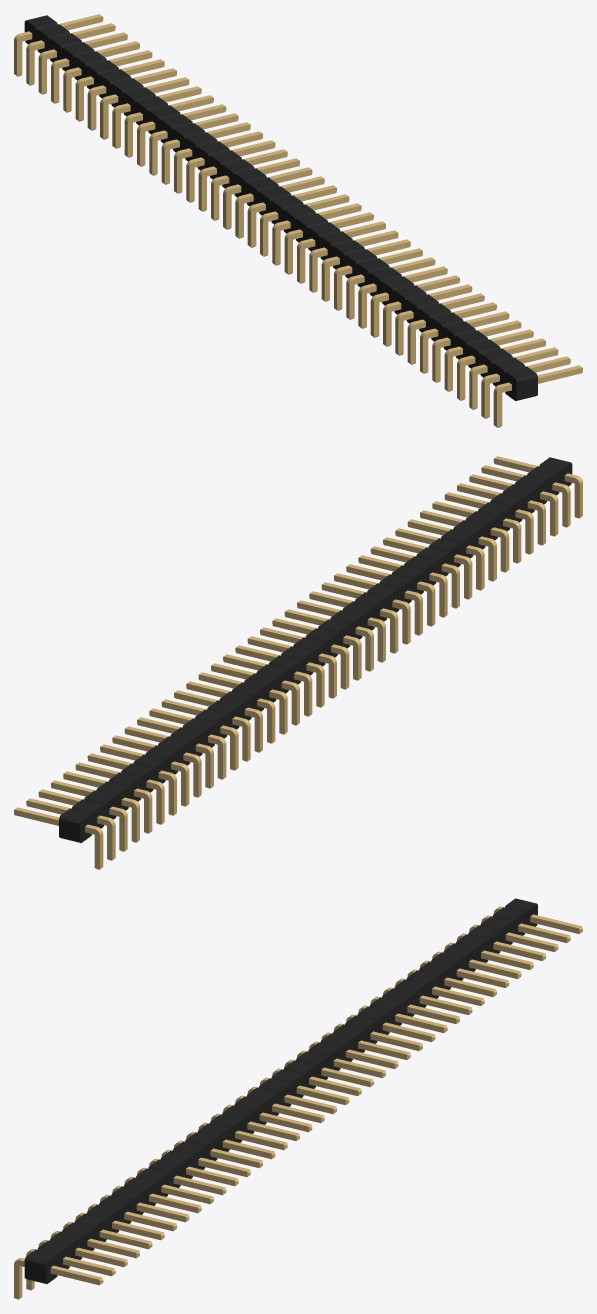
The model's file is kc-pinheader_1x40_p2.54mm_horizontal.glb.
The picture shows the model from 3 angles, top to bottom: view 1: azimuth 30°, elevation 25°; view 2: azimuth 150°, elevation 25°; view 3: azimuth 330°, elevation 25°; orthographic projection.
Visible parts, largest first — view 1: 0.75_0.5_0.25_0.9, 0_0_0_0; view 2: 0.75_0.5_0.25_0.9, 0_0_0_0; view 3: 0.75_0.5_0.25_0.9, 0_0_0_0.
Part boxes in pixels (box(x1,y1,x2,y2)): 0.75_0.5_0.25_0.9: box(14, 14, 582, 427); 0_0_0_0: box(24, 15, 537, 400); 0.75_0.5_0.25_0.9: box(14, 456, 582, 869); 0_0_0_0: box(59, 457, 572, 842); 0.75_0.5_0.25_0.9: box(14, 906, 582, 1299); 0_0_0_0: box(24, 898, 537, 1283).
Bounding box in the file's own units: 1.04 × 0.554 × 10.16.
